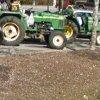Tractor: (3, 2, 88, 56)
